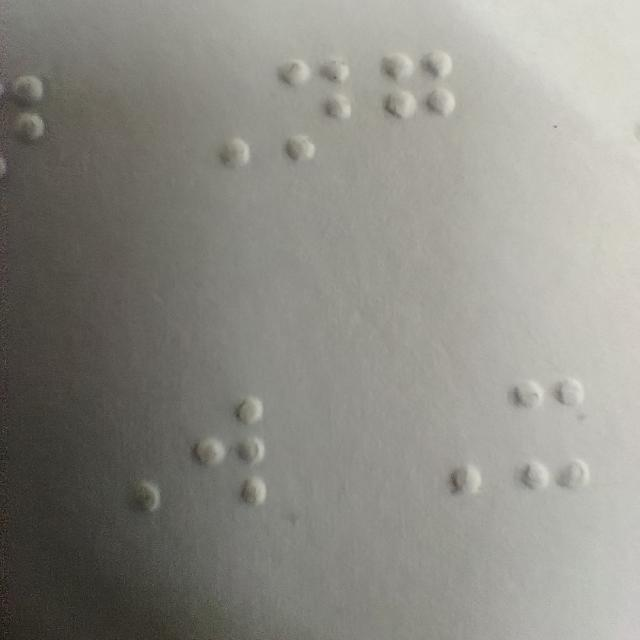capital_sign: (410, 379, 486, 497), (176, 52, 252, 169), (87, 399, 163, 516)
letter_G: (382, 51, 458, 168)
letter_N: (278, 53, 355, 170)
letter_W: (193, 392, 269, 509)
letter_X: (510, 377, 593, 494)
